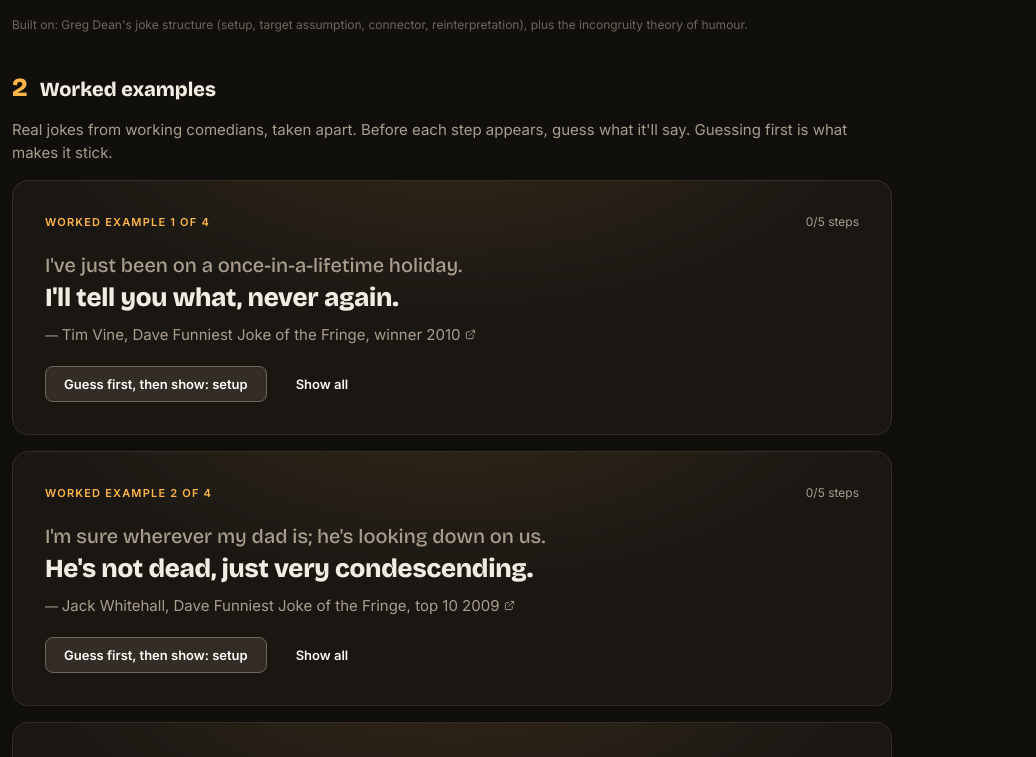
Test: worked examples reveal one step at a time
The width and height of the screenshot is (1036, 757).
(page scrolled)
Click the button "Guess first, then show: setup" below "I'll tell you what, never again." at (156, 384), box [45,366,267,402]
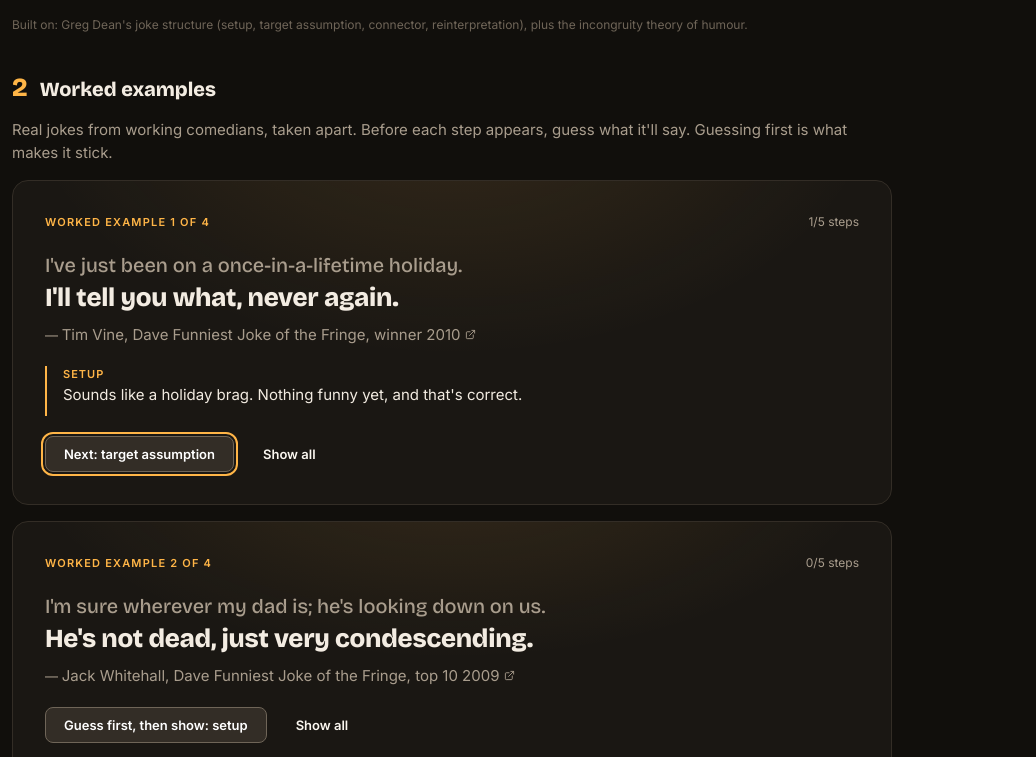
Expected: the text "the trip of a lifetime" is not shown
Expected: the text "Sounds like a holiday brag" is shown, [63,385,522,404]
Click the button "Next: target assumption" at (140, 454), box [45,436,234,472]
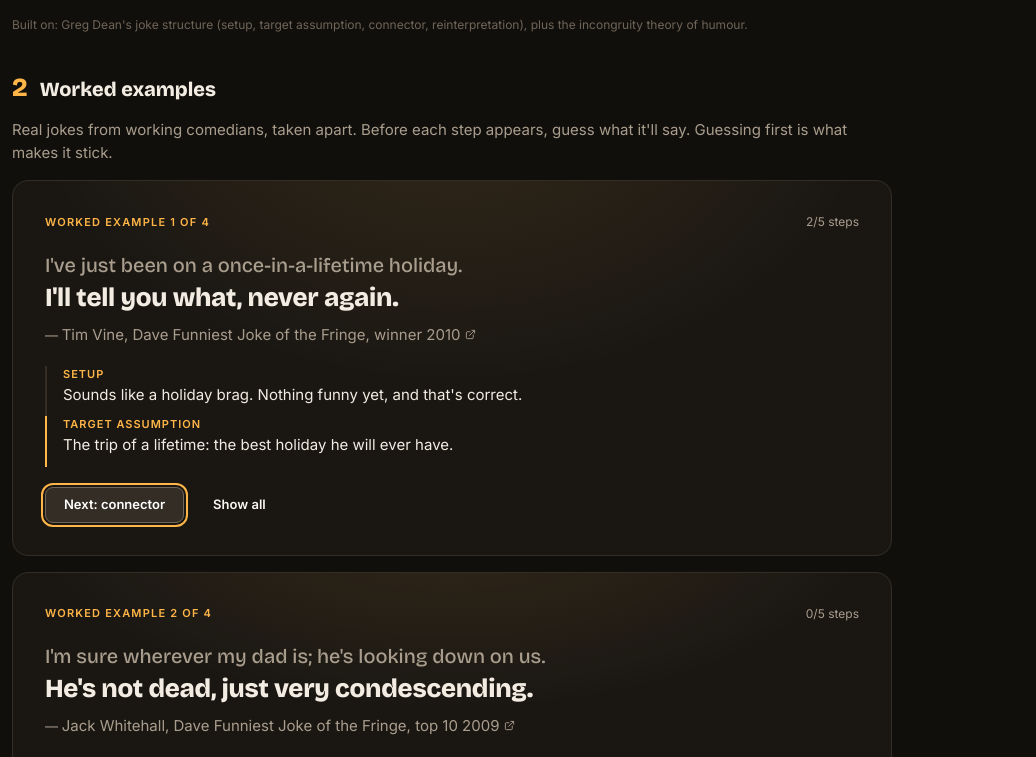
Expected: the text "The trip of a lifetime: the best holiday he will ever have." is shown, [63,435,453,454]
